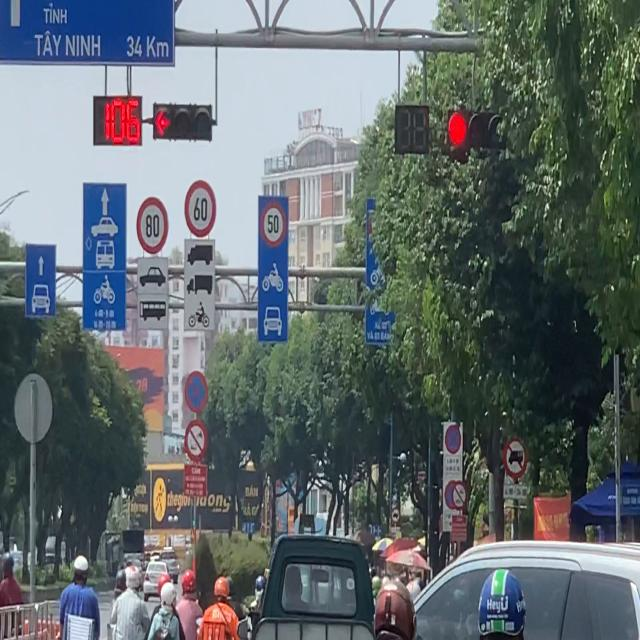Cam con lai: (184, 418, 208, 463), (504, 437, 526, 481), (451, 480, 469, 510)
Cam dung va do: (183, 368, 210, 416), (447, 421, 463, 458)
Toc do toi da: (135, 194, 171, 253), (185, 175, 215, 232), (257, 194, 283, 246)
